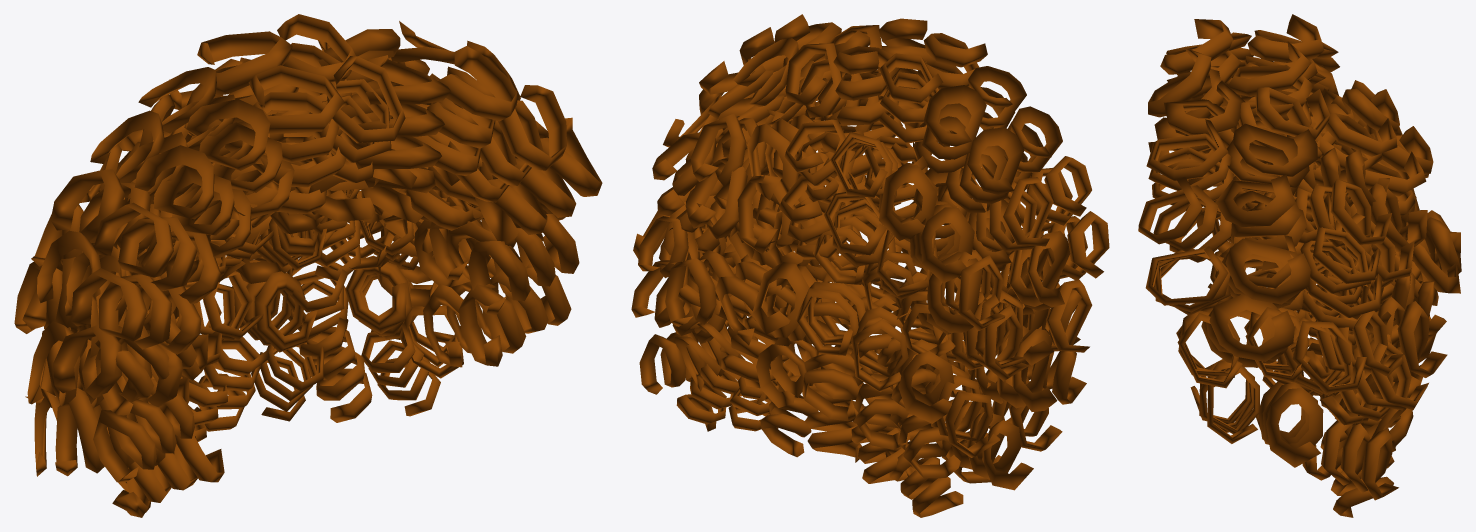
The model's file is kivircik-sac.fbx.
3 renders of one model, left to right at view 1: azimuth 30°, elevation 25°; view 2: azimuth 150°, elevation 25°; view 3: azimuth 270°, elevation 25°, orthographic. The views are drawn at different scales.
Parts seen in each view (by area): view 1: sac; view 2: sac; view 3: sac.
Boxes of the visible parts, left/top/right/bottom form: sac: left=14, top=14, right=602, bottom=517; sac: left=631, top=14, right=1109, bottom=517; sac: left=1138, top=14, right=1461, bottom=517.
Bounding box in the file's own units: 126 × 119 × 80.23.
